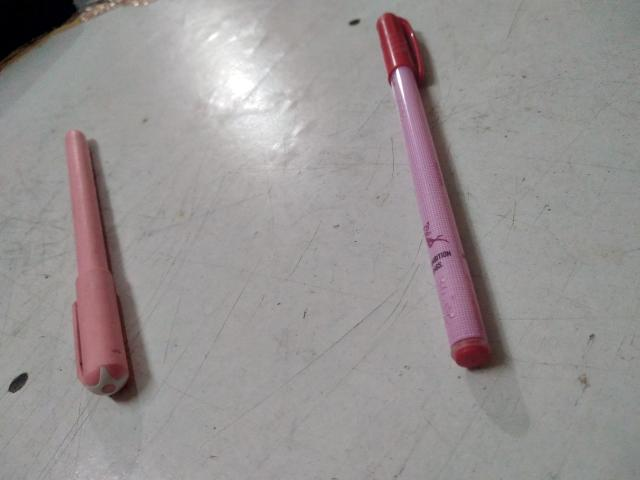PEN: (357, 5, 499, 370), (47, 129, 140, 404)
